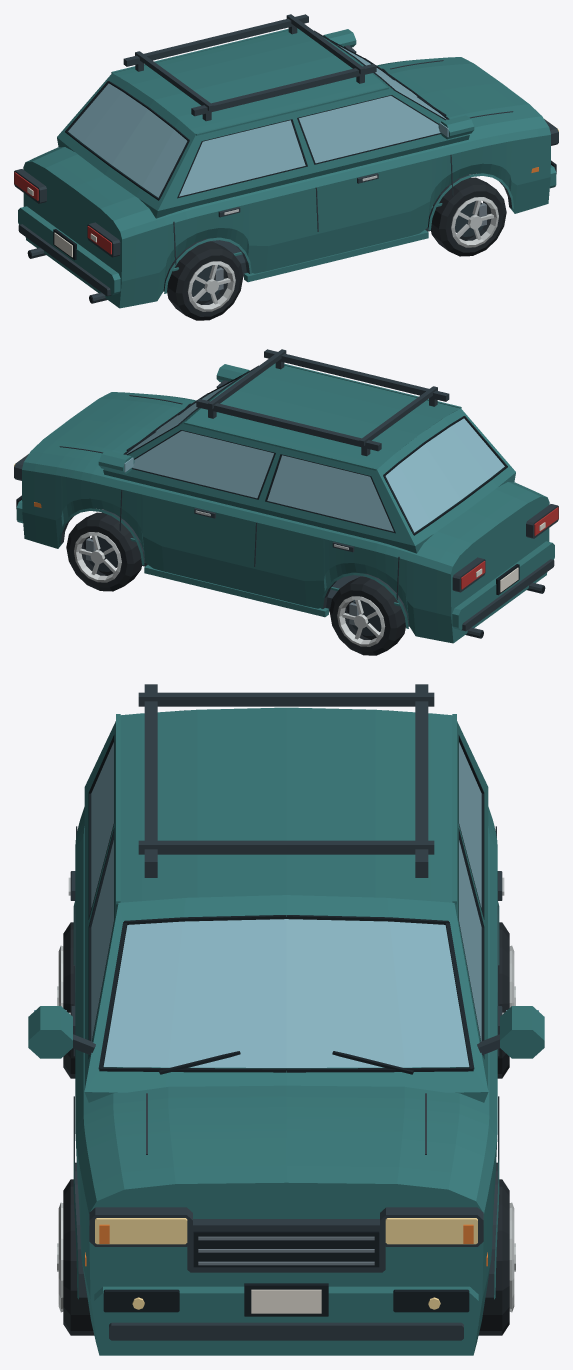
File: b03_subcompact_crossover.glb
3 views of the same model, one above another, from view 1: azimuth 30°, elevation 25°; view 2: azimuth 150°, elevation 25°; view 3: azimuth 270°, elevation 25° (orthographic). The views are drawn at different scales.
Parts seen in each view (by area): view 1: b03_subcompact_crossover; view 2: b03_subcompact_crossover; view 3: b03_subcompact_crossover.
Boxes of the visible parts, left/top/right/bottom form: b03_subcompact_crossover: left=14, top=14, right=558, bottom=320; b03_subcompact_crossover: left=14, top=349, right=558, bottom=655; b03_subcompact_crossover: left=28, top=684, right=544, bottom=1355.
Bounding box in the file's own units: 4.45 × 1.86 × 2.2.
